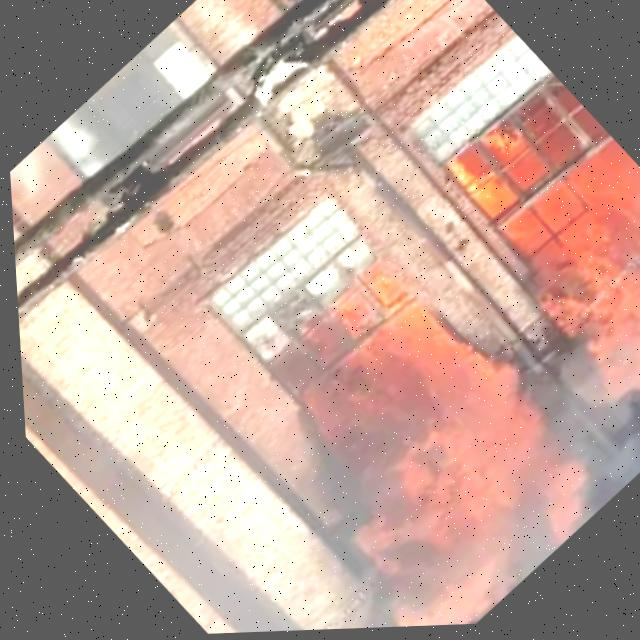Smoke: (289, 348, 629, 632), (528, 230, 640, 480)
